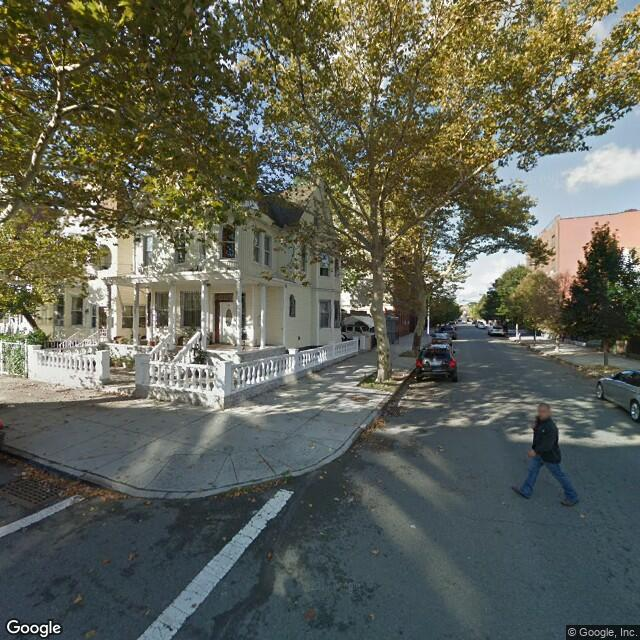litter: (11, 456, 124, 496), (370, 392, 411, 435)
